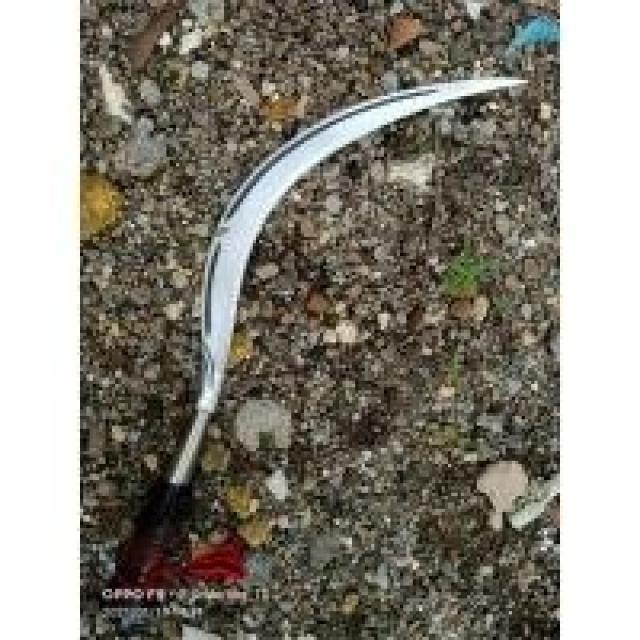machete: (115, 77, 537, 592)
